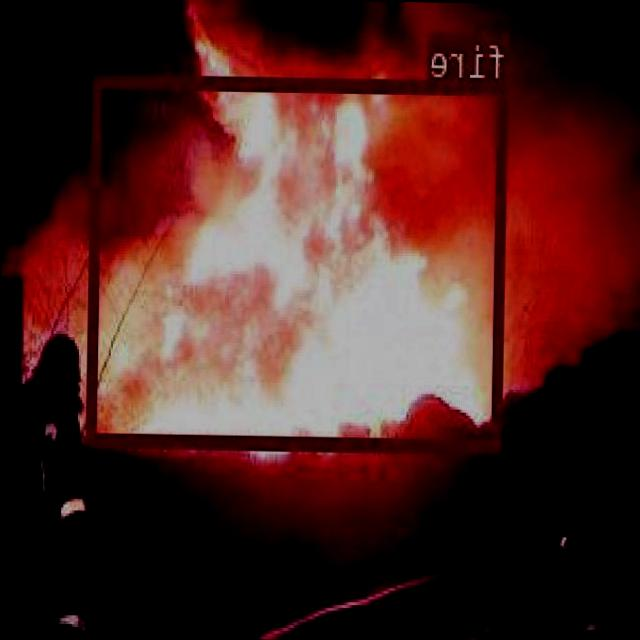fire: (89, 73, 509, 450)
